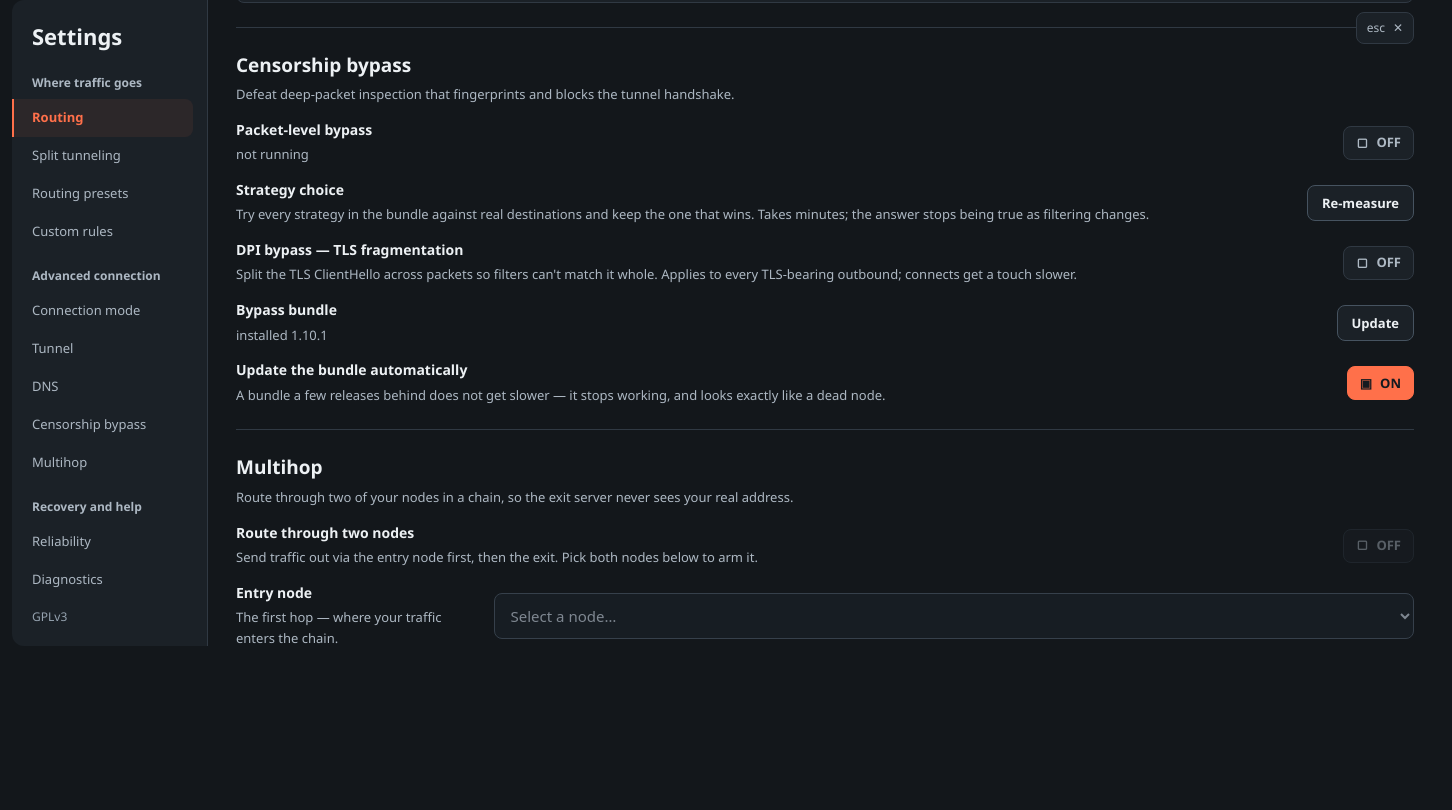
Test case: SettingsScreen — bypass bundle › says to update Tenebra when a newer bundle is not trusted yet
(page scrolled)
Step 1. Click the button "Update" → click(1375, 323), box [1336,305,1414,341]
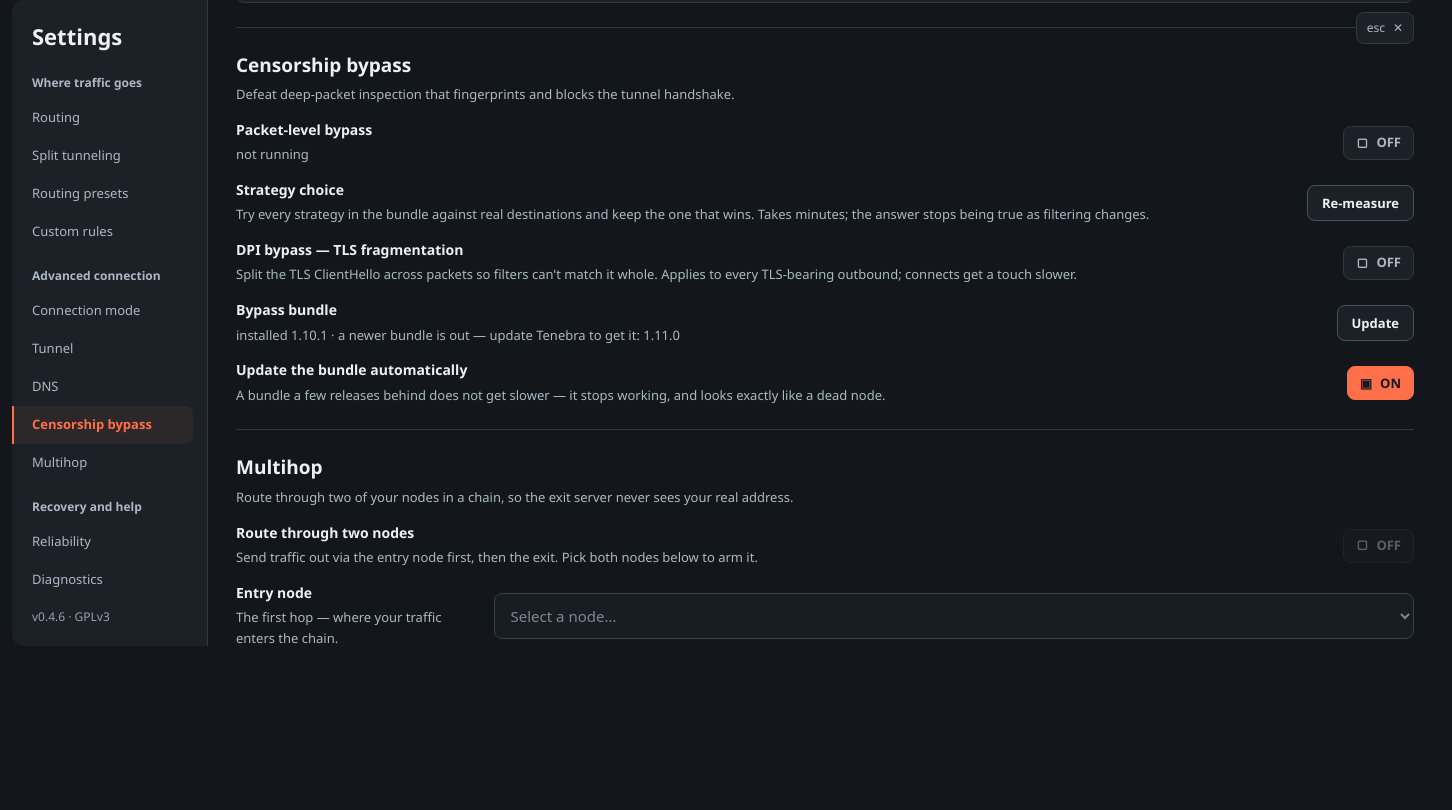
Result: the text "1.11.0" is shown at [328,326,680,344]
